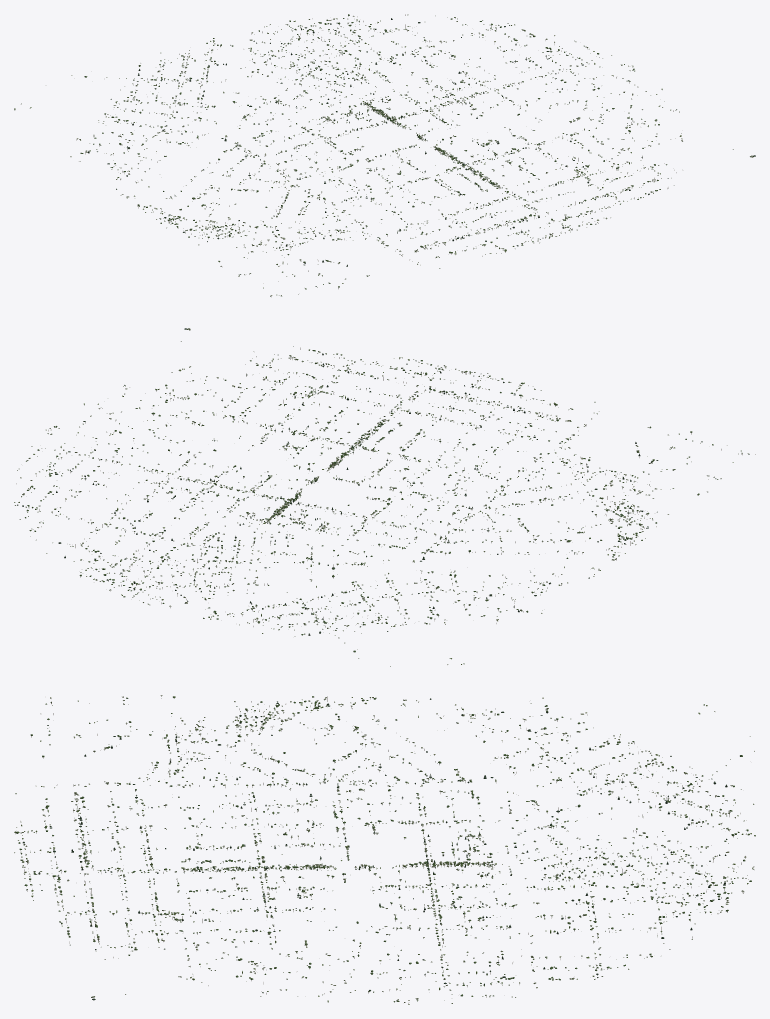
Rendered from norwood_backdrop_part2.glb.
3 renders of one model, top to bottom at view 1: azimuth 30°, elevation 25°; view 2: azimuth 150°, elevation 25°; view 3: azimuth 270°, elevation 25°, orthographic. The views are drawn at different scales.
Parts seen in each view (by area): view 1: bg_trees_joined_s10, bg_trees_joined_s08, bg_trees_joined_s13, bg_trees_joined_s14, bg_trees_joined_s09, bg_trees_joined_s12, bg_trees_joined_s15, bg_trees_joined_s11; view 2: bg_trees_joined_s08, bg_trees_joined_s10, bg_trees_joined_s13, bg_trees_joined_s14, bg_trees_joined_s09, bg_trees_joined_s12, bg_trees_joined_s15, bg_trees_joined_s11; view 3: bg_trees_joined_s08, bg_trees_joined_s13, bg_trees_joined_s10, bg_trees_joined_s14, bg_trees_joined_s09, bg_trees_joined_s12, bg_trees_joined_s15, bg_trees_joined_s11, bg_trees_joined_s02, bg_trees_joined_s05, bg_trees_joined_s04.
Part boxes in pixels (x1,y1,x2,y2): bg_trees_joined_s10: [474, 153, 676, 243]; bg_trees_joined_s08: [137, 171, 349, 297]; bg_trees_joined_s13: [251, 14, 457, 86]; bg_trees_joined_s14: [71, 38, 315, 124]; bg_trees_joined_s09: [298, 190, 528, 294]; bg_trees_joined_s12: [425, 20, 634, 105]; bg_trees_joined_s15: [14, 103, 262, 198]; bg_trees_joined_s11: [514, 78, 755, 165]; bg_trees_joined_s08: [478, 450, 755, 560]; bg_trees_joined_s10: [252, 346, 490, 433]; bg_trees_joined_s13: [29, 510, 253, 607]; bg_trees_joined_s14: [185, 550, 409, 666]; bg_trees_joined_s09: [413, 376, 727, 476]; bg_trees_joined_s12: [14, 426, 196, 523]; bg_trees_joined_s15: [383, 529, 600, 664]; bg_trees_joined_s11: [79, 328, 289, 456]; bg_trees_joined_s08: [45, 695, 384, 796]; bg_trees_joined_s13: [514, 852, 754, 958]; bg_trees_joined_s10: [14, 848, 251, 959]; bg_trees_joined_s14: [508, 736, 755, 854]; bg_trees_joined_s09: [14, 713, 255, 850]; bg_trees_joined_s12: [385, 902, 629, 1004]; bg_trees_joined_s15: [385, 697, 715, 795]; bg_trees_joined_s11: [91, 900, 385, 1002]; bg_trees_joined_s02: [217, 850, 349, 898]; bg_trees_joined_s05: [416, 850, 557, 899]; bg_trees_joined_s04: [385, 863, 502, 921].
Size of the model in its own units: 3000 by 65.65 by 2990.
Materials: 1 (1 with a texture image).
